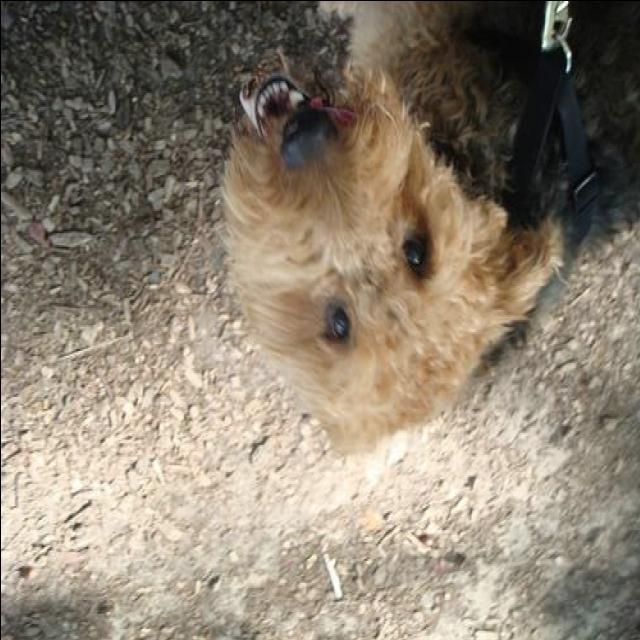airedale: (223, 2, 636, 456)
